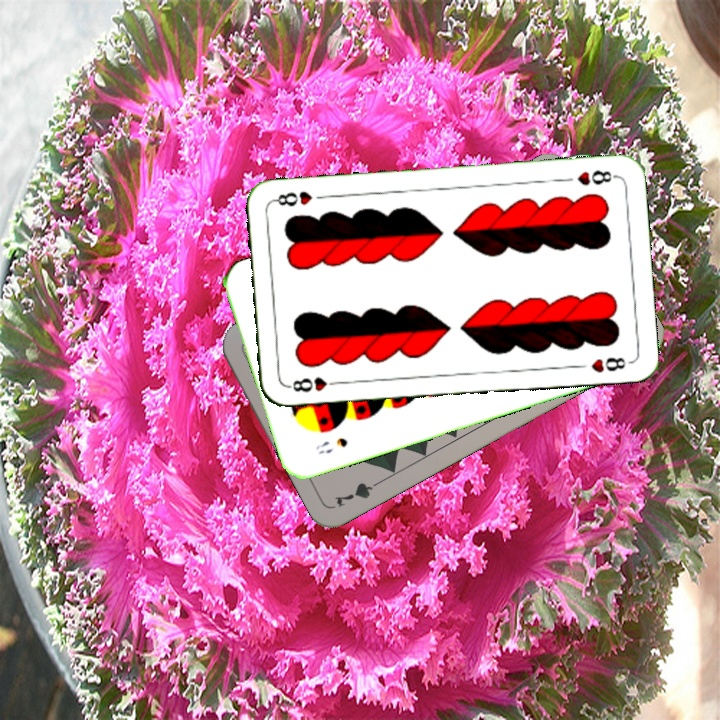G7: (330, 474, 387, 510)
H8: (284, 373, 343, 395), (573, 165, 619, 189)
S8: (311, 433, 350, 457)
